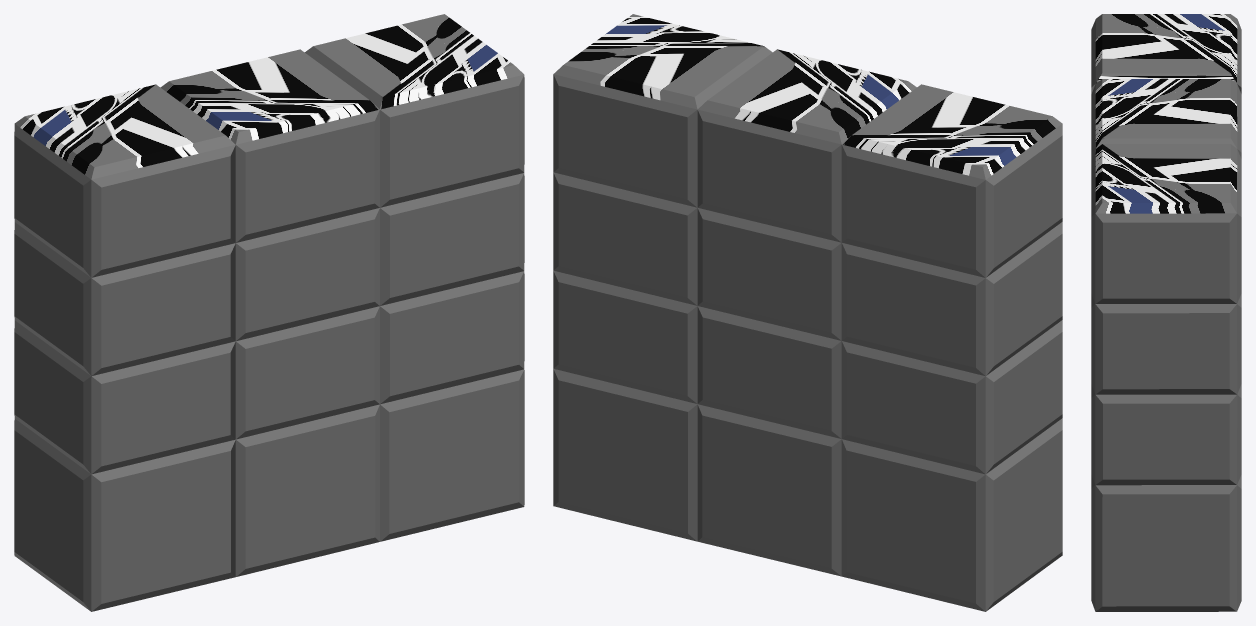
Rendered from Muur_3.fbx.
The picture shows the model from 3 angles, left to right: view 1: azimuth 30°, elevation 25°; view 2: azimuth 150°, elevation 25°; view 3: azimuth 270°, elevation 25°; orthographic projection. The views are drawn at different scales.
Visible parts, largest first — view 1: Muur_3; view 2: Muur_3; view 3: Muur_3.
Part boxes in pixels (box(x1,y1,x2,y2)): Muur_3: box(14, 14, 524, 611); Muur_3: box(553, 14, 1062, 611); Muur_3: box(1091, 14, 1241, 611).
Bounding box in the file's own units: 284 × 271 × 90.9.
